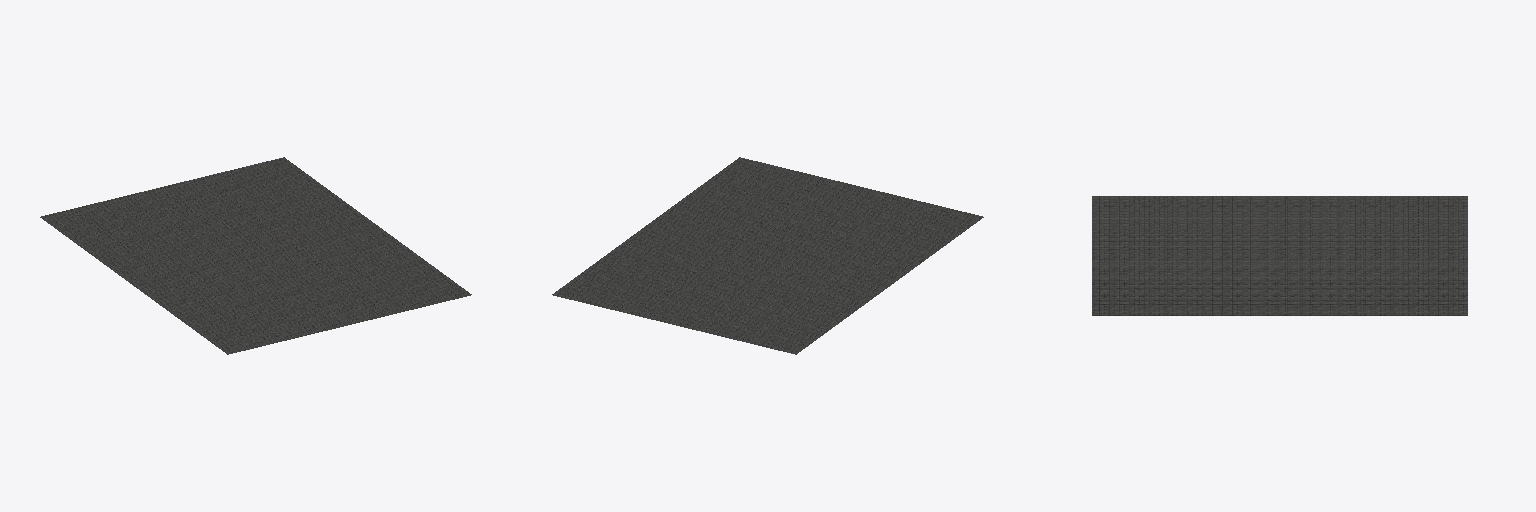
3 renders of one model, left to right at view 1: azimuth 30°, elevation 25°; view 2: azimuth 150°, elevation 25°; view 3: azimuth 270°, elevation 25°, orthographic.
Visible parts, largest first — view 1: Plane; view 2: Plane; view 3: Plane.
Part boxes in pixels (x1,y1,x2,y2): Plane: (40,157,471,354); Plane: (552,157,983,354); Plane: (1092,196,1467,315).
Size of the model in its own units: 30 by 0 by 40.
Materials: 1 (1 with a texture image).